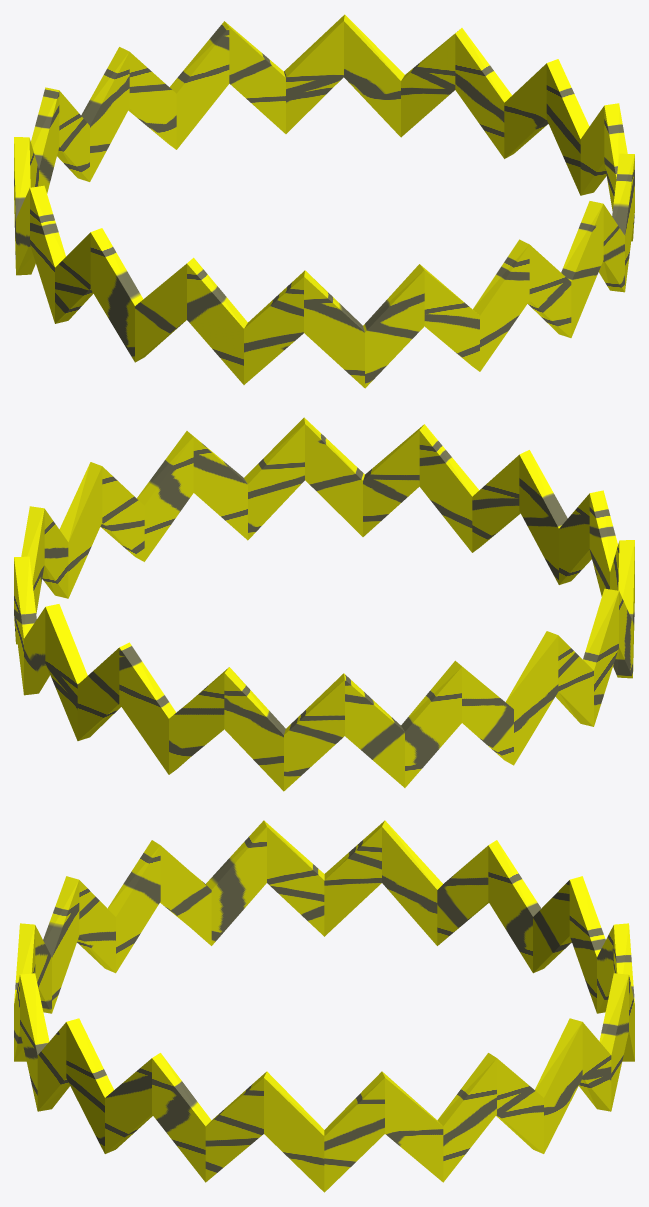
The model's file is shockwave.obj.
3 views of the same model, one above another, from view 1: azimuth 30°, elevation 25°; view 2: azimuth 150°, elevation 25°; view 3: azimuth 270°, elevation 25° (orthographic).
Visible parts, largest first — view 1: 円柱; view 2: 円柱; view 3: 円柱.
Part boxes in pixels (left/top/right/bottom): 円柱: left=14, top=14, right=634, bottom=388; 円柱: left=14, top=417, right=634, bottom=791; 円柱: left=14, top=820, right=634, bottom=1192.
Size of the model in its own units: 2 by 0.4 by 2.
Materials: 1 (1 with a texture image).
